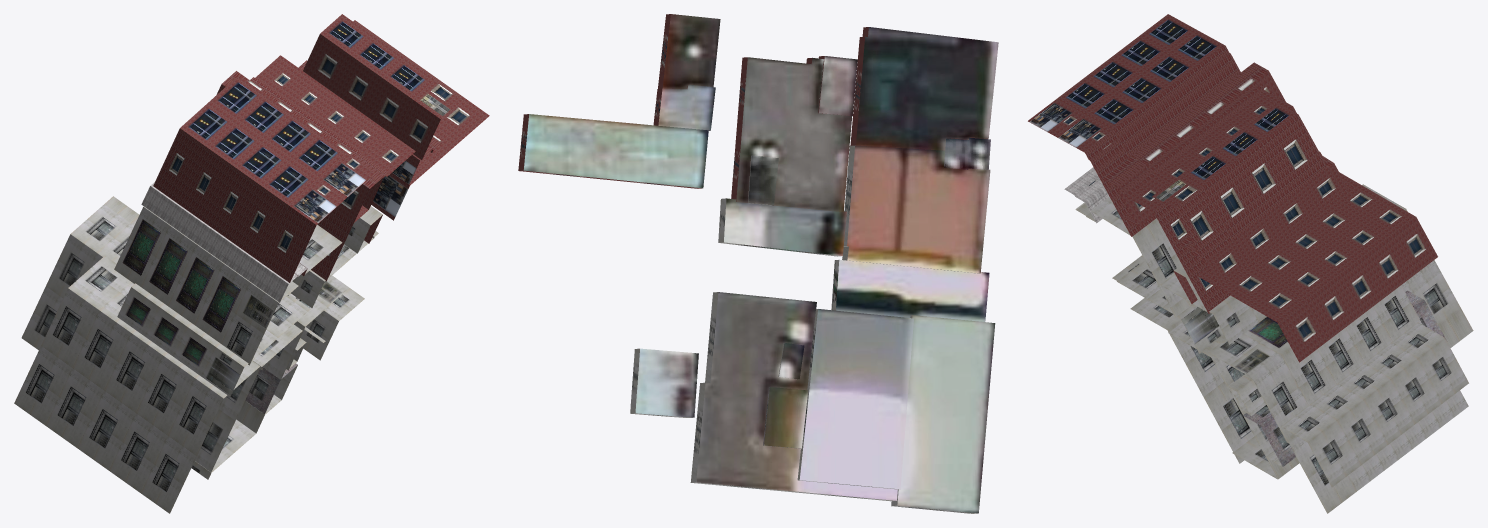
3 renders of one model, left to right at view 1: azimuth 30°, elevation 25°; view 2: azimuth 150°, elevation 25°; view 3: azimuth 270°, elevation 25°, orthographic. The views are drawn at different scales.
Bounding box in the file's own units: 46.12 × 41.9 × 38.38.
56 materials, 56 textured.
